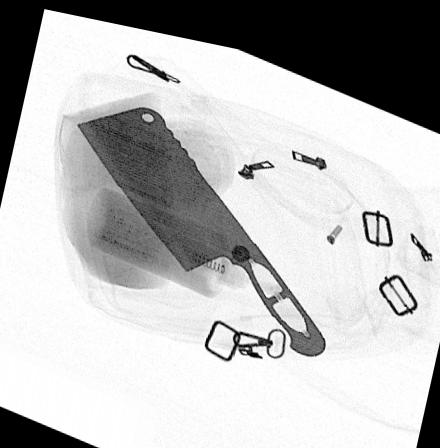Knife: (75, 98, 326, 342)
